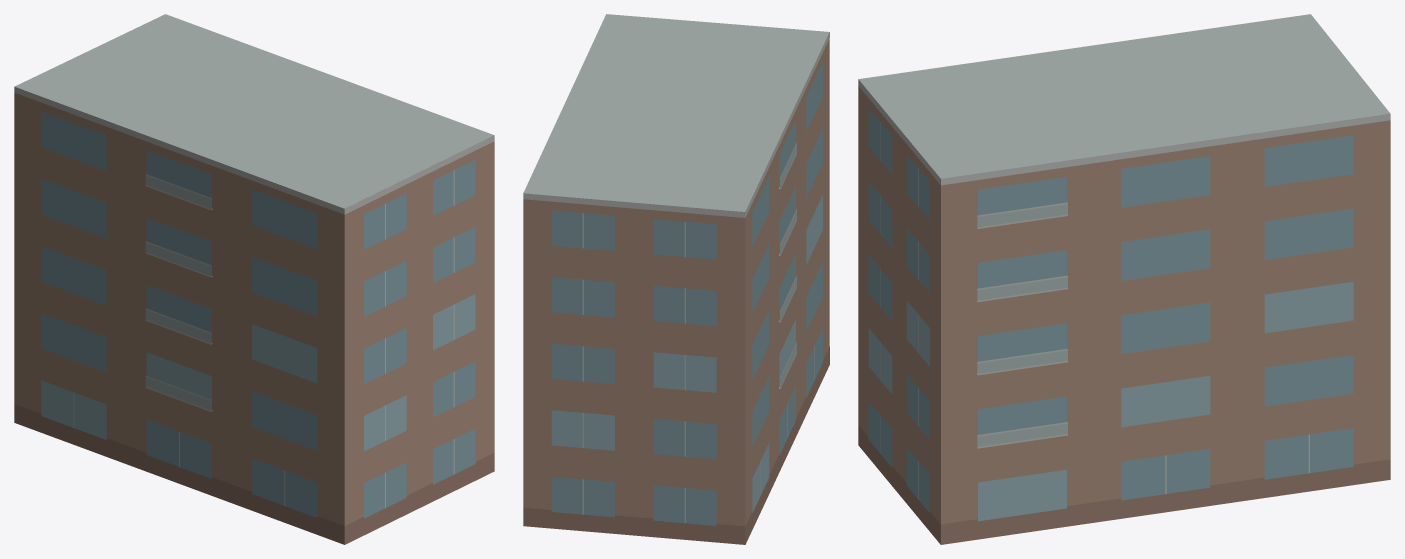
File: survey-upis-32747636.glb
3 views of the same model, side by side, from view 1: azimuth 30°, elevation 25°; view 2: azimuth 150°, elevation 25°; view 3: azimuth 270°, elevation 25° (orthographic). The views are drawn at different scales.
Parts seen in each view (by area): view 1: survey-upis-32747636.tmp; view 2: survey-upis-32747636.tmp; view 3: survey-upis-32747636.tmp.
Boxes of the visible parts, x1=… form: survey-upis-32747636.tmp: x1=14, y1=14, x2=494, y2=544; survey-upis-32747636.tmp: x1=523, y1=14, x2=829, y2=544; survey-upis-32747636.tmp: x1=858, y1=14, x2=1390, y2=544.
Size of the model in its own units: 13.35 by 13.8 by 18.2.
